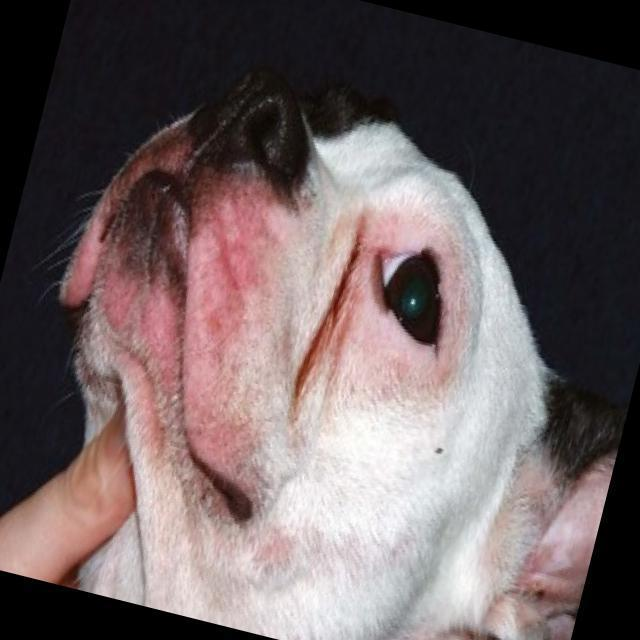allergic dermatitis: (192, 170, 254, 432), (97, 252, 180, 365), (336, 212, 382, 362), (61, 192, 97, 310), (436, 246, 466, 372), (362, 341, 437, 384), (114, 135, 198, 173), (374, 203, 443, 239)
